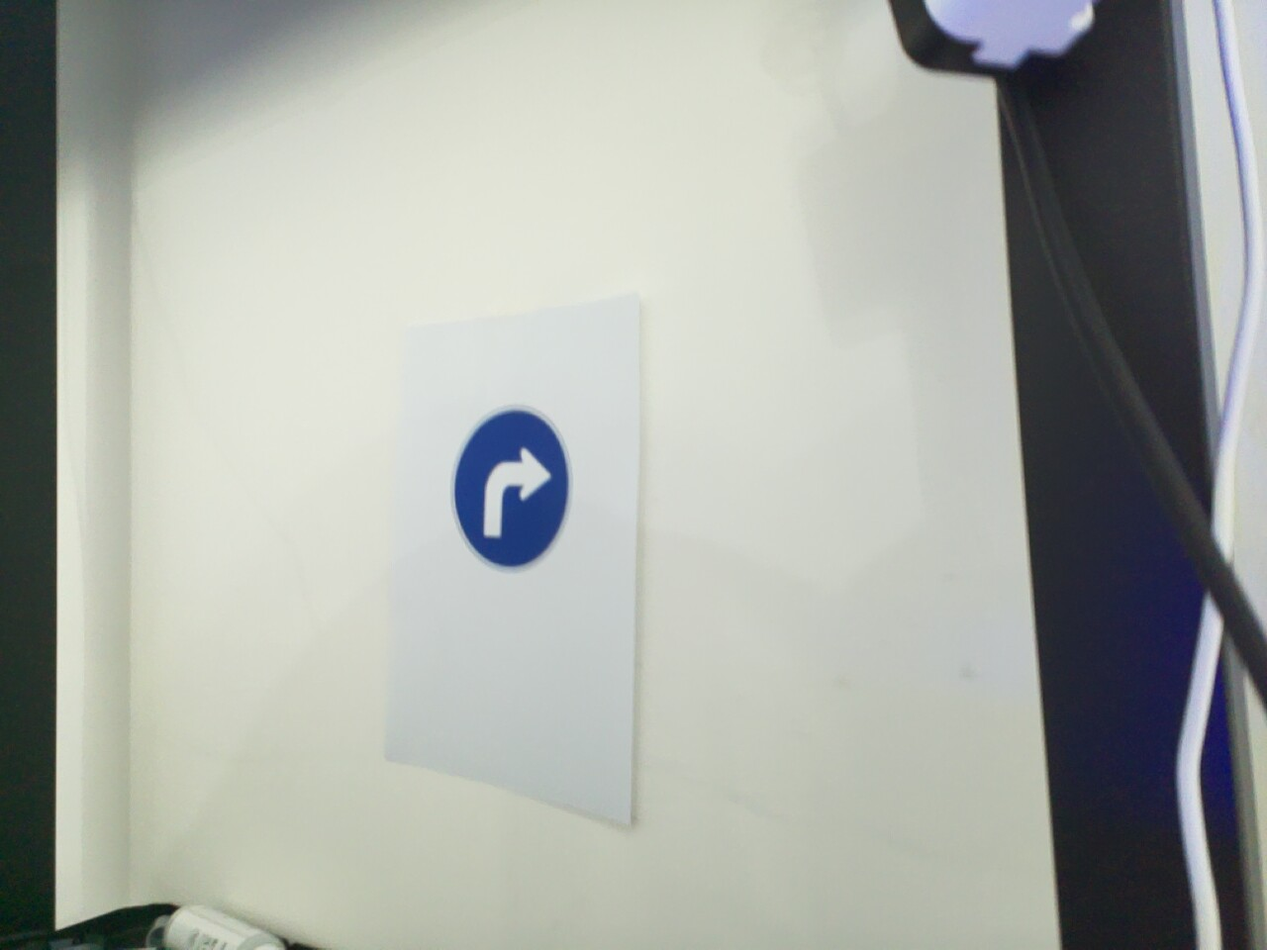right_turn: (448, 403, 575, 574)
